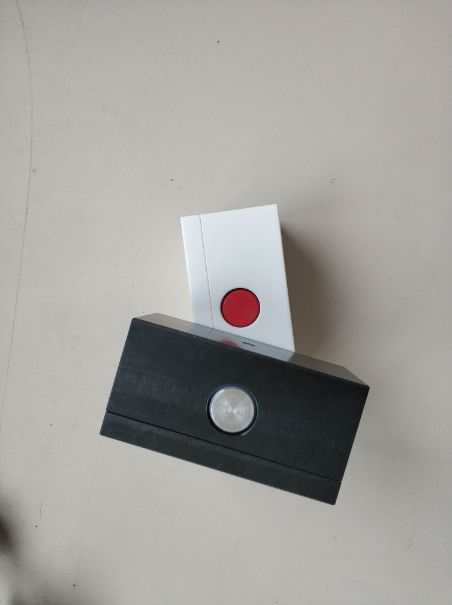black+black+silver: (96, 311, 374, 508)
white+white+red: (175, 202, 302, 356)
